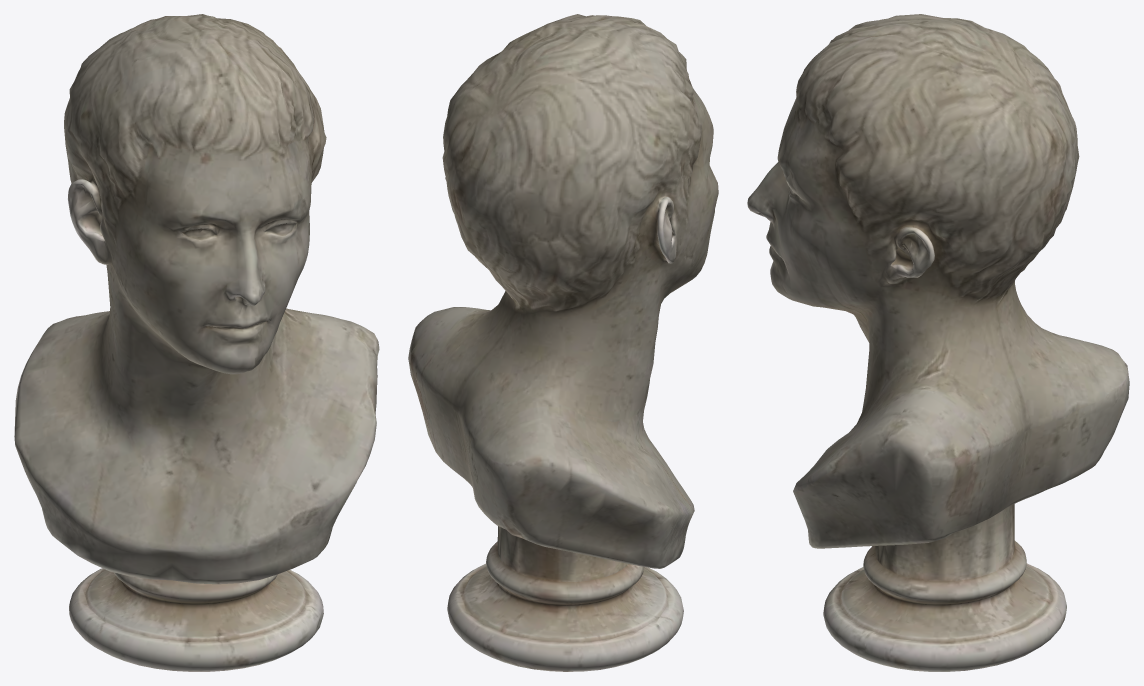
Rendered from ph-marble-bust-01.glb.
The picture shows the model from 3 angles, left to right: view 1: azimuth 30°, elevation 25°; view 2: azimuth 150°, elevation 25°; view 3: azimuth 270°, elevation 25°; orthographic projection. The views are drawn at different scales.
Visible parts, largest first — view 1: marble_bust_01; view 2: marble_bust_01; view 3: marble_bust_01.
Part boxes in pixels (x1,y1,x2,y2): marble_bust_01: [14, 14, 379, 671]; marble_bust_01: [408, 14, 718, 671]; marble_bust_01: [747, 14, 1129, 671].
Bounding box in the file's own units: 0.2217 × 0.42 × 0.2444.
Materials: 1 (1 with a texture image).
